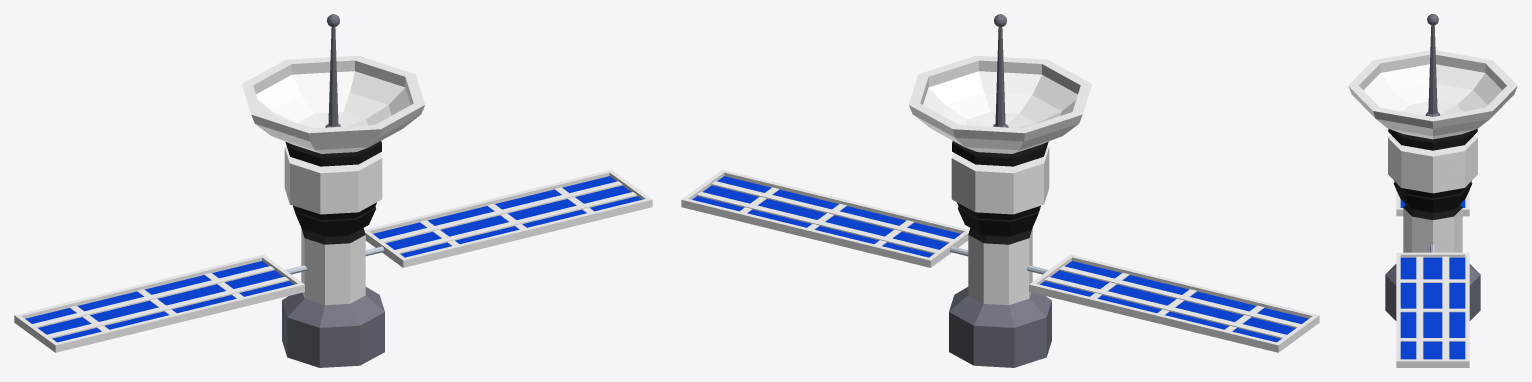
The model's file is Satellite14.glb.
3 renders of one model, left to right at view 1: azimuth 30°, elevation 25°; view 2: azimuth 150°, elevation 25°; view 3: azimuth 270°, elevation 25°, orthographic. The views are drawn at different scales.
Visible parts, largest first — view 1: Satellite14-main, Satellite14-head, Satellite14-PanelLeft, Satellite14-PanelRight; view 2: Satellite14-main, Satellite14-head, Satellite14-PanelLeft, Satellite14-PanelRight; view 3: Satellite14-head, Satellite14-main, Satellite14-PanelRight, Satellite14-PanelLeft.
Part boxes in pixels (x1,y1,x2,y2): Satellite14-main: (282,141,384,367); Satellite14-head: (242,14,424,153); Satellite14-PanelLeft: (14,254,306,352); Satellite14-PanelRight: (364,169,652,267); Satellite14-main: (949,141,1051,367); Satellite14-head: (909,14,1091,153); Satellite14-PanelLeft: (1027,254,1319,352); Satellite14-PanelRight: (681,169,969,267); Satellite14-head: (1348,14,1517,139); Satellite14-main: (1385,129,1480,320); Satellite14-PanelRight: (1396,244,1469,367); Satellite14-PanelLeft: (1396,190,1469,216).
Size of the model in its own units: 20.65 by 10.96 by 5.69.
